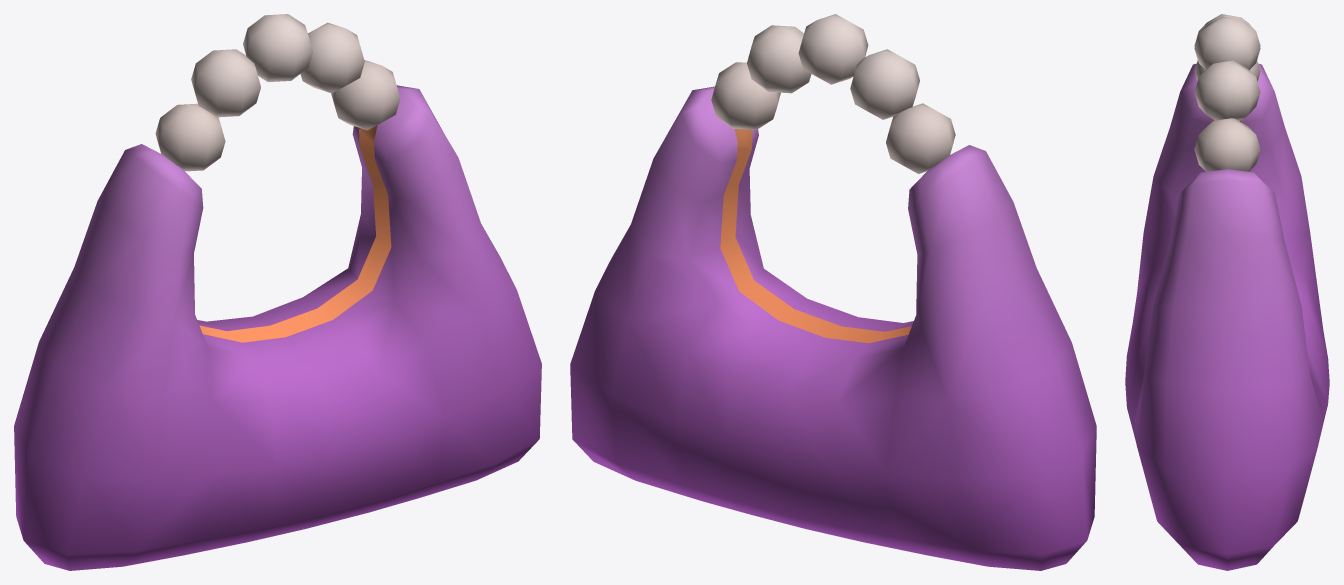
Rendered from Purse_03.fbx.
3 views of the same model, side by side, from view 1: azimuth 30°, elevation 25°; view 2: azimuth 150°, elevation 25°; view 3: azimuth 270°, elevation 25° (orthographic). The views are drawn at different scales.
Parts seen in each view (by area): view 1: Purse_03; view 2: Purse_03; view 3: Purse_03.
Boxes of the visible parts, box(x1,y1,x2,y2) form: Purse_03: box(14, 14, 541, 570); Purse_03: box(570, 14, 1096, 570); Purse_03: box(1125, 14, 1329, 570).
Size of the model in its own units: 30.98 by 11.82 by 29.03.
